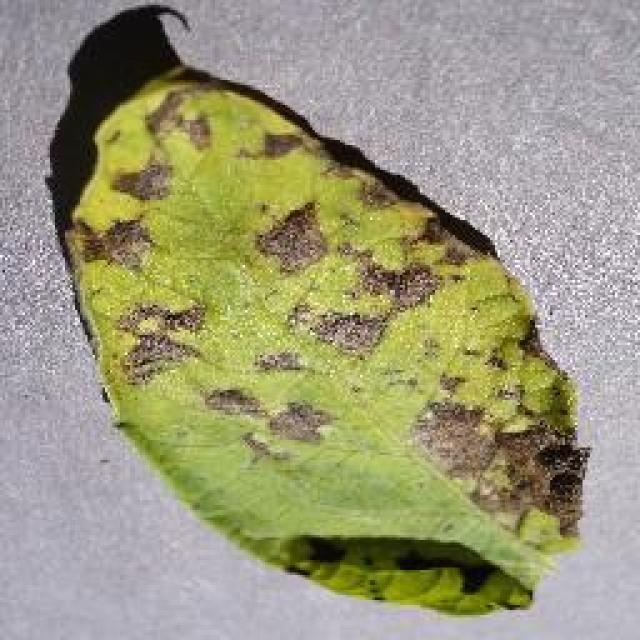early_blight: (45, 0, 592, 622)
